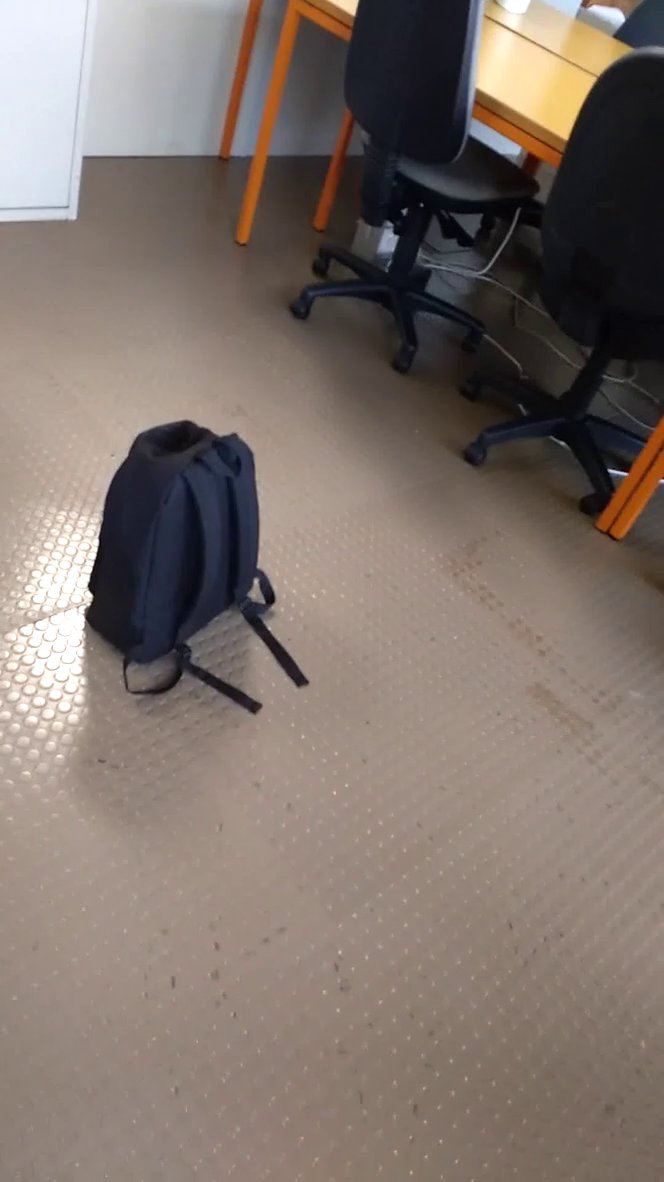bag: (82, 402, 319, 733)
chair: (286, 2, 544, 368)
